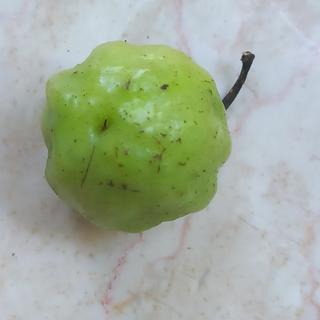Fly-bites: (156, 77, 174, 96), (121, 73, 134, 95), (157, 127, 171, 144), (120, 147, 134, 162), (121, 180, 134, 195), (69, 67, 81, 80), (69, 135, 81, 148), (106, 177, 117, 191), (174, 134, 186, 145), (96, 180, 105, 189)
striped: (76, 143, 100, 193)
